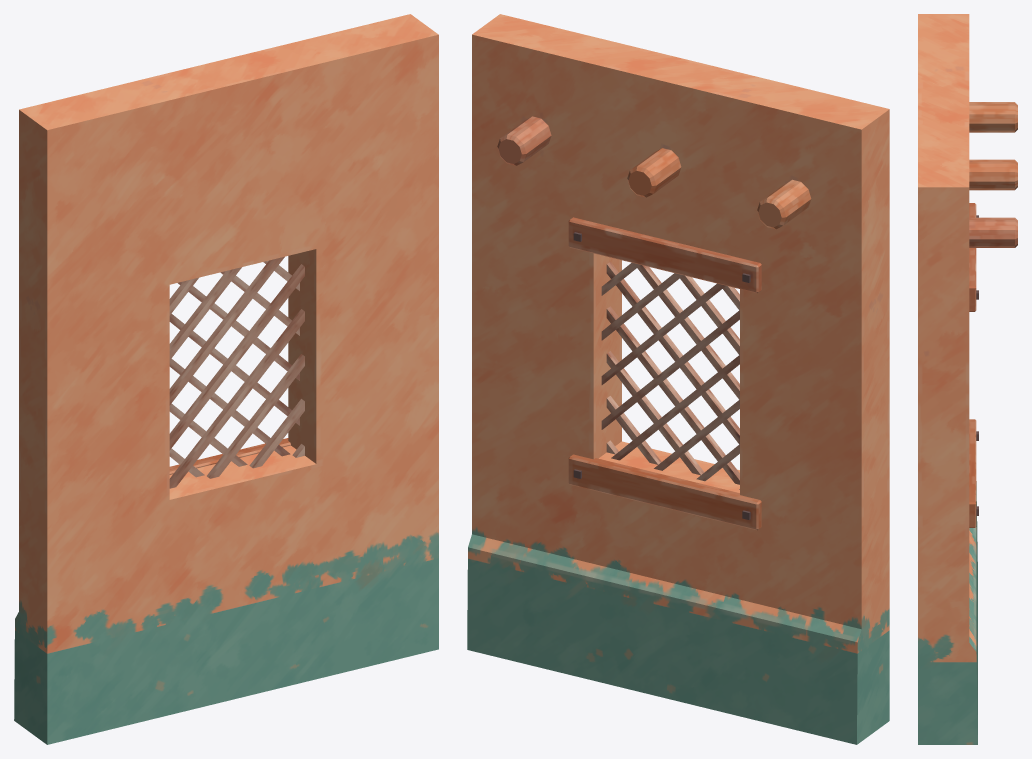
Rendered from wall_window.fbx.
The picture shows the model from 3 angles, left to right: view 1: azimuth 30°, elevation 25°; view 2: azimuth 150°, elevation 25°; view 3: azimuth 270°, elevation 25°; orthographic projection. The views are drawn at different scales.
Visible parts, largest first — view 1: wall_window; view 2: wall_window; view 3: wall_window.
Part boxes in pixels (left/top/right/bottom): wall_window: left=14, top=14, right=438, bottom=744; wall_window: left=467, top=14, right=889, bottom=744; wall_window: left=918, top=14, right=1017, bottom=744.
Bounding box in the file's own units: 8 × 12 × 1.95.
1 material, 1 textured.
